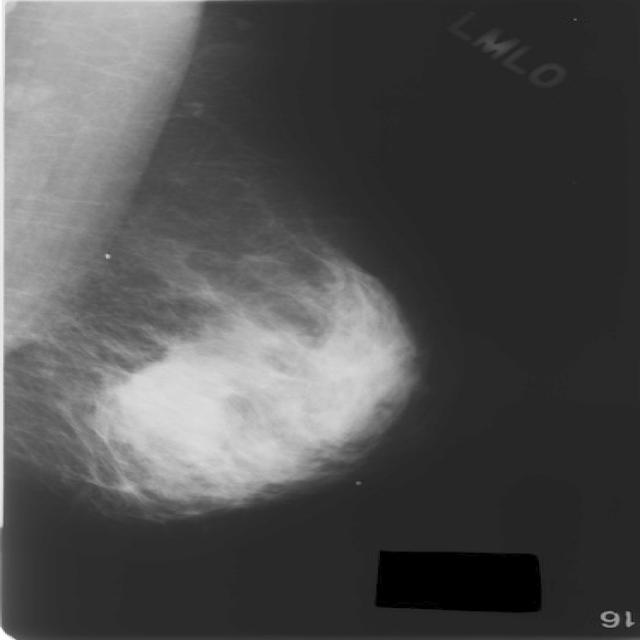tumour: (103, 353, 238, 444)
